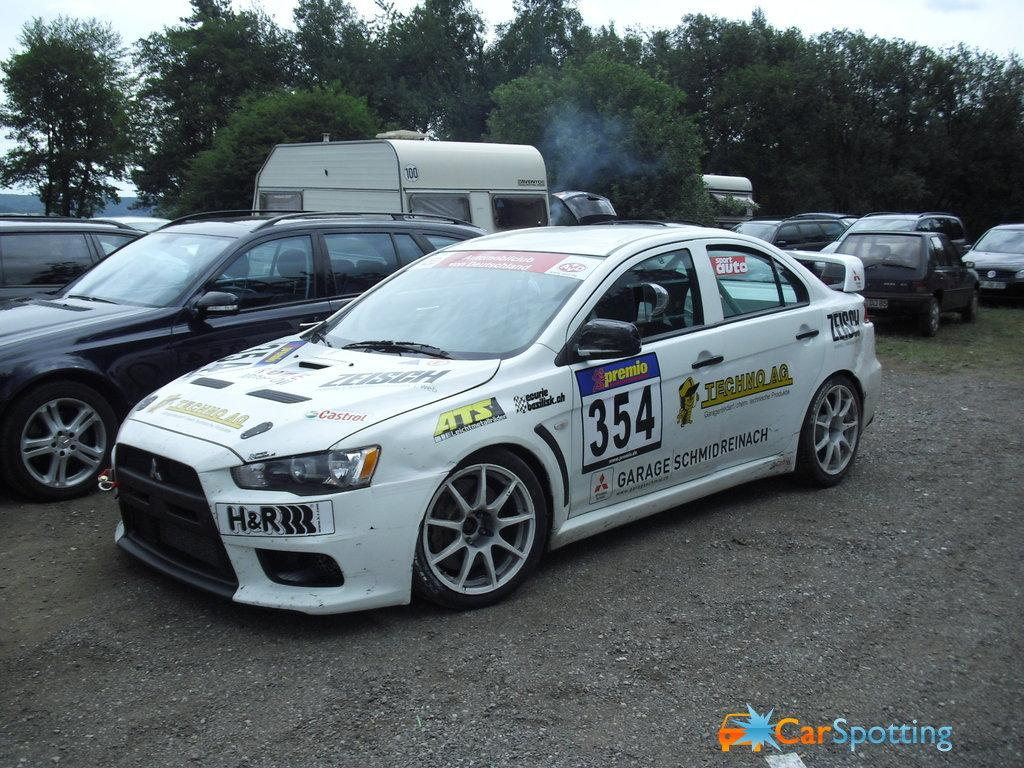Mitsubishi: (139, 450, 173, 493)
